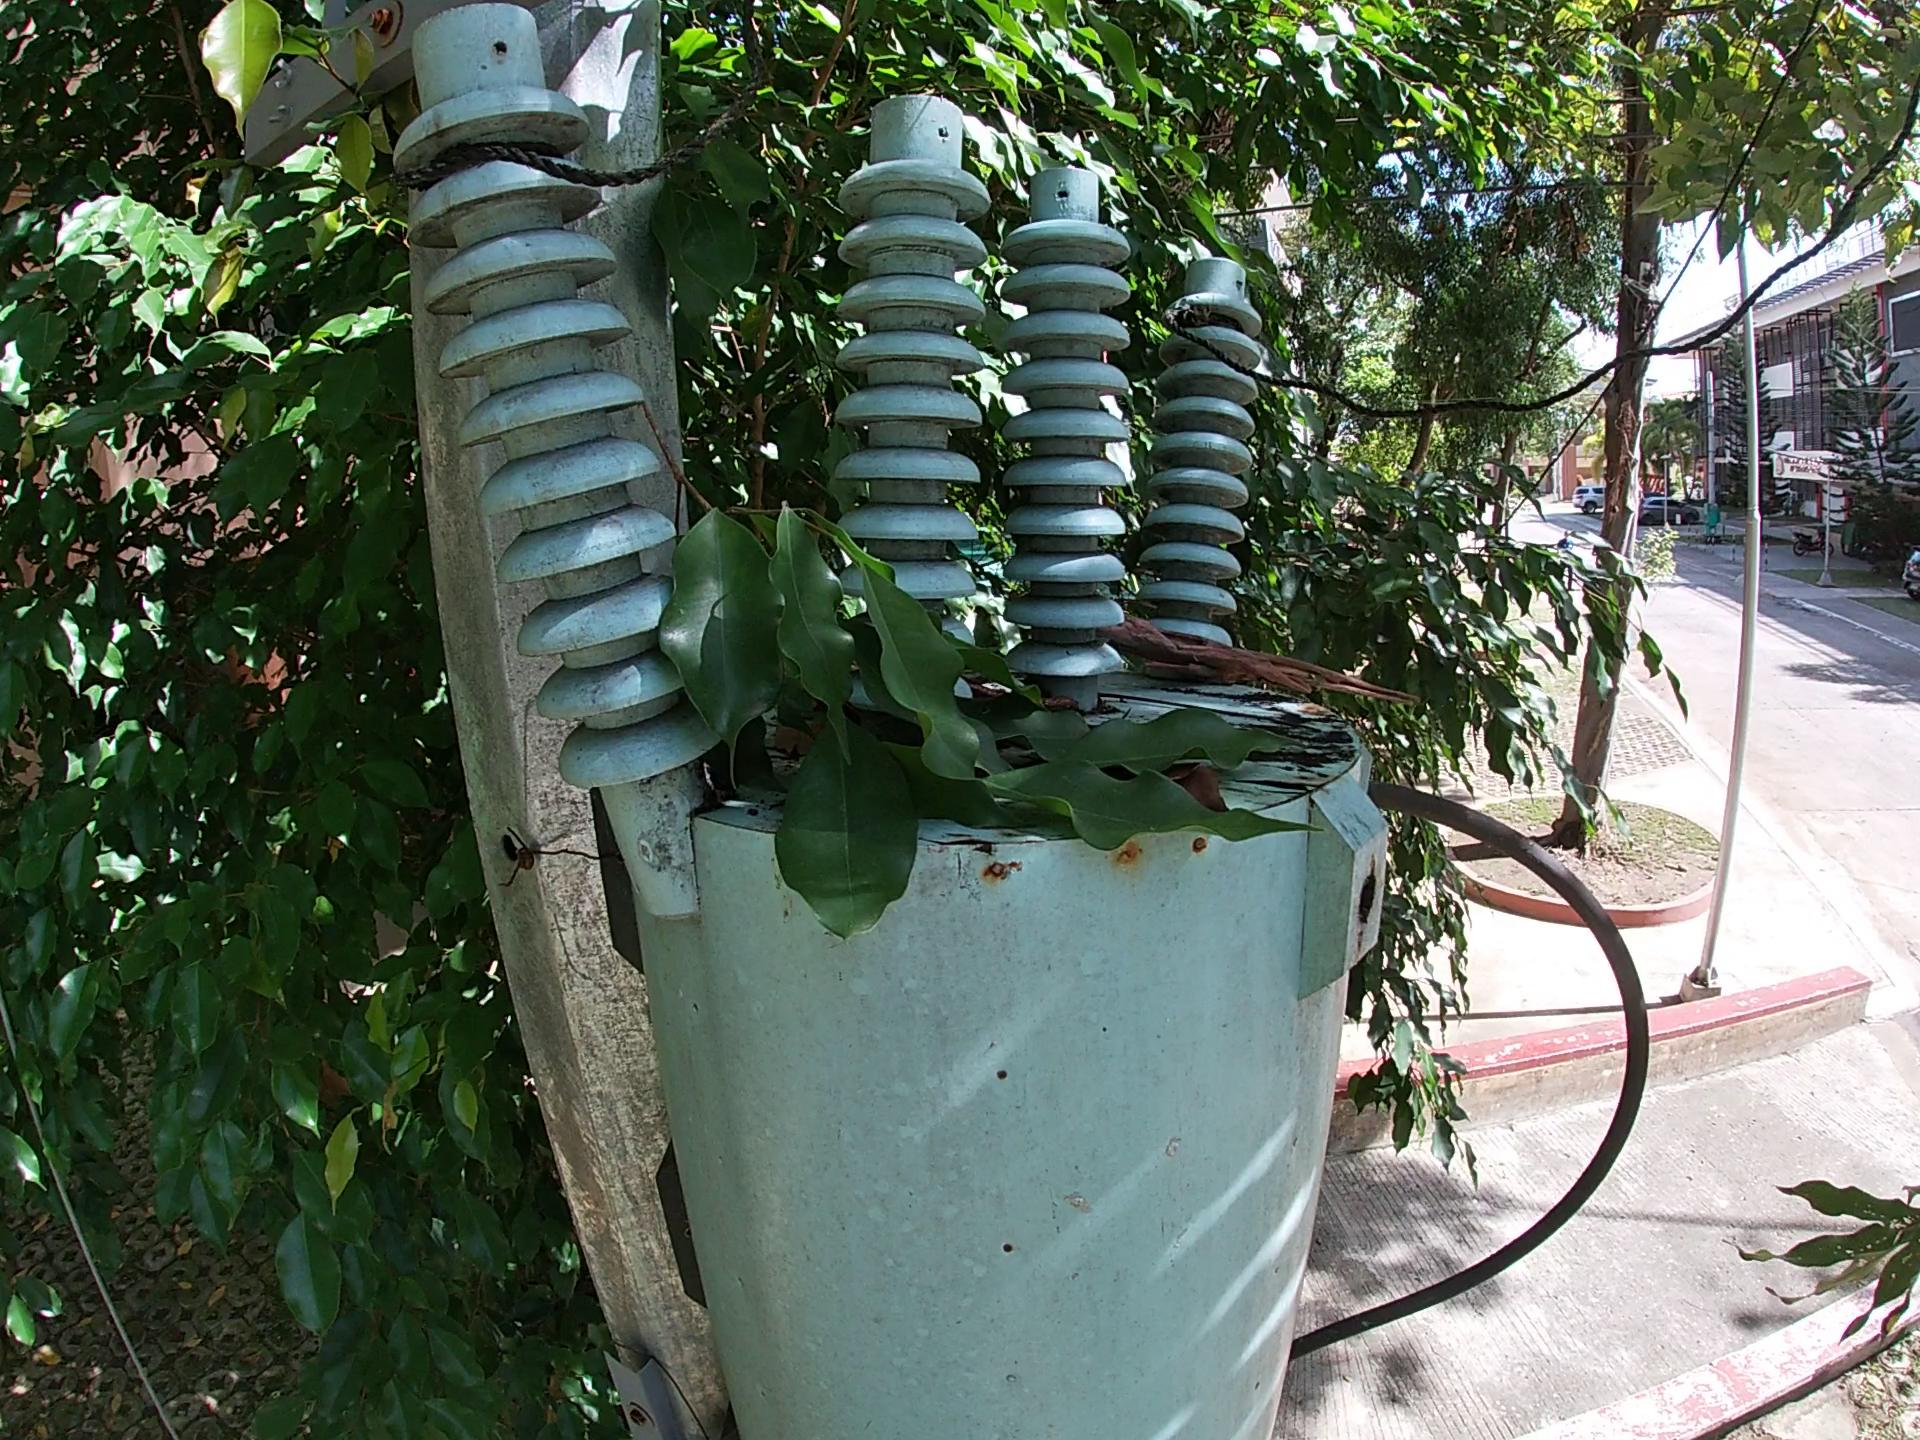branch with leaves: (609, 408, 1379, 959)
mahogany fruit: (1164, 755, 1231, 821), (965, 687, 1095, 703)
tree branch: (1122, 625, 1439, 718), (1105, 678, 1338, 737)
